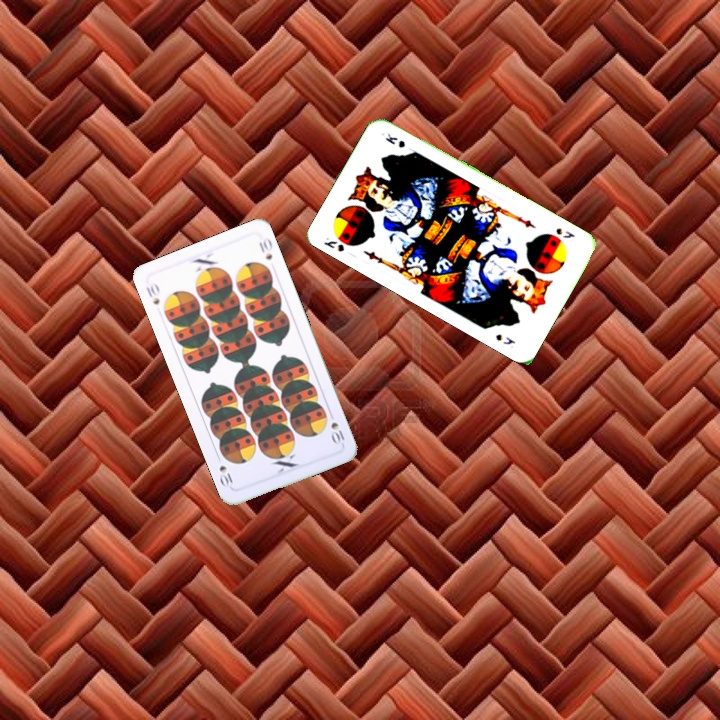S10: (327, 418, 347, 447), (142, 279, 162, 308)
SK: (320, 233, 347, 255), (552, 224, 578, 241)
